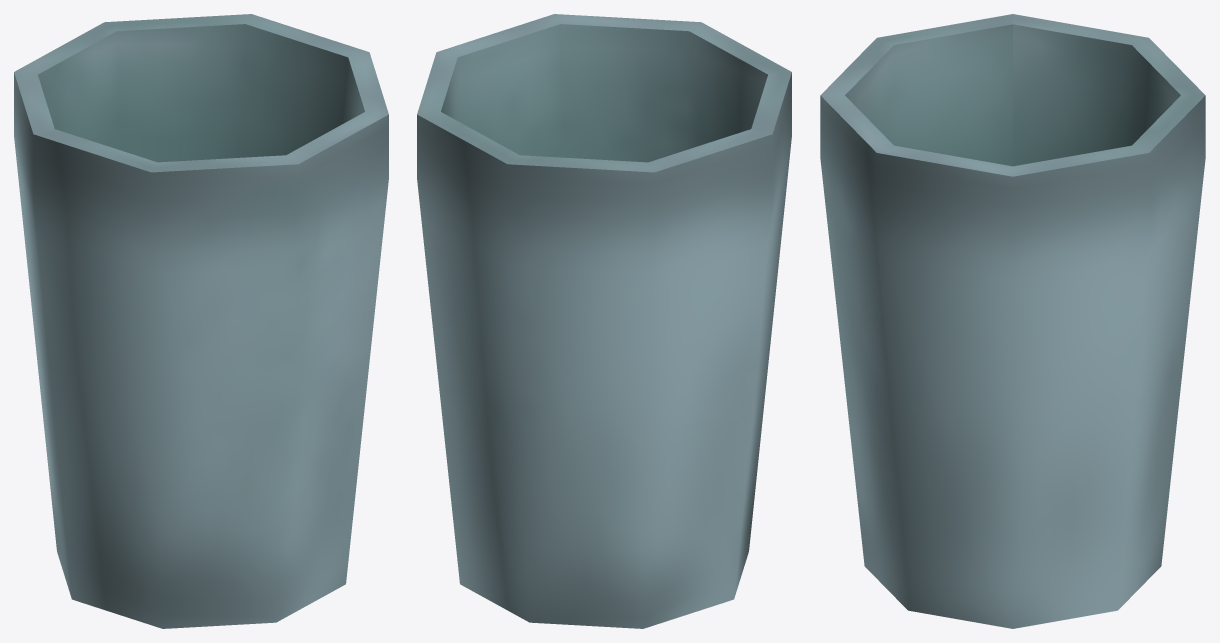
Rendered from GLASS_low.fbx.
3 views of the same model, side by side, from view 1: azimuth 30°, elevation 25°; view 2: azimuth 150°, elevation 25°; view 3: azimuth 270°, elevation 25° (orthographic).
Parts seen in each view (by area): view 1: GLASS_low; view 2: GLASS_low; view 3: GLASS_low.
Boxes of the visible parts, box(x1,y1,x2,y2) form: GLASS_low: box(14, 14, 388, 628); GLASS_low: box(417, 14, 791, 628); GLASS_low: box(820, 14, 1205, 628).
Bounding box in the file's own units: 6.21 × 8.38 × 6.21.
